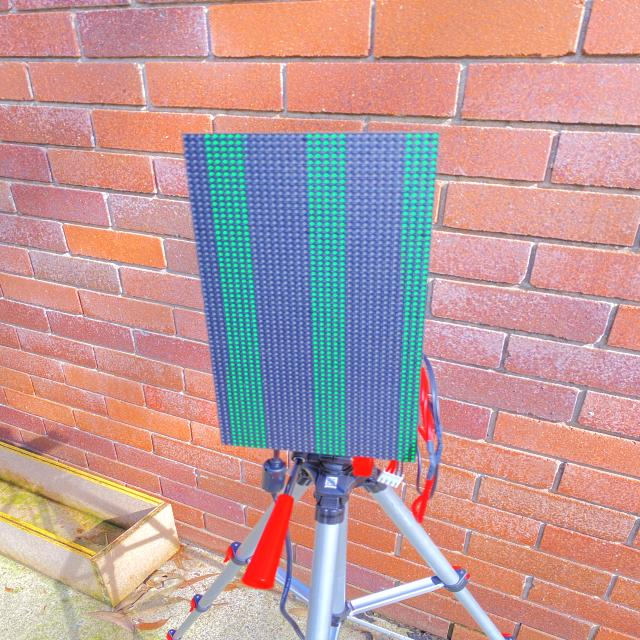matrix: (169, 126, 438, 469)
